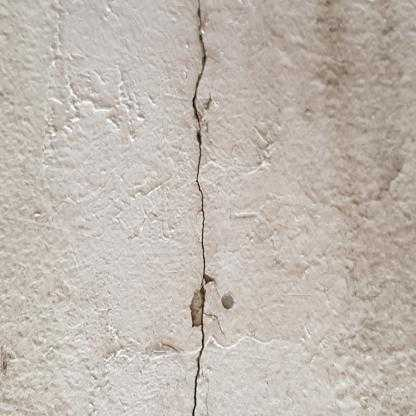crack: (191, 1, 207, 416)
